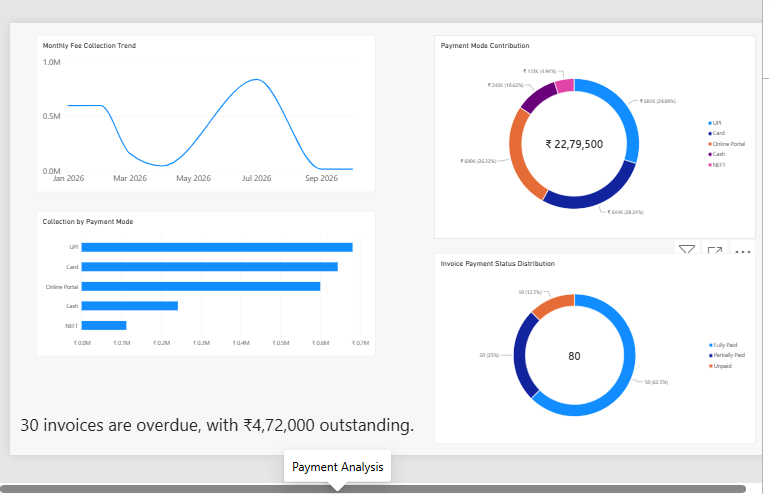

The dashboard page shown, as its layout file describes it:
{"tool":"powerbi","page":{"name":"Payment Analysis","canvas":[1920,1080],"ordinal":1},"visuals":[{"type":"lineChart","title":"Monthly Fee Collection Trend","fields":{"Category":["Payments.PaymentDate.Variation.Date Hierarchy.Year","Payments.PaymentDate.Variation.Date Hierarchy.Month"],"Y":["Sum(Payments.AmountPaid)"]},"box":[65.5,30.2,849.1,393.1],"z":0},{"type":"clusteredBarChart","title":"Collection by Payment Mode","fields":{"Category":["Payments.PaymentMode"],"Y":["Departments.Collected Amount Numeric"]},"box":[65.5,471.2,849.1,362.8],"z":1},{"type":"donutChart","title":"Payment Mode Contribution","fields":{"Category":["Payments.PaymentMode"],"Y":["Departments.Collected Amount Numeric"]},"box":[1060.8,30.2,803.8,509],"z":2},{"type":"donutChart","title":"Invoice Payment Status Distribution","fields":{"Category":["Invoices.Invoice Payment Status"],"Y":["Departments.Total Invoice Count"]},"box":[1060.8,574.5,803.8,476.2],"z":3},{"type":"textbox","box":[20.2,975.1,995.3,75.6],"z":4}]}

Visuals, with their boxes on the page's 1920x1080 design canvas (x1, y1, x2, y2). These are canvas units, not pixel positions in the 769x494 screenshot, which may show the page scaled, cropped or inside an application window:
"Monthly Fee Collection Trend" lineChart: rect(66, 30, 915, 423)
"Collection by Payment Mode" clusteredBarChart: rect(66, 471, 915, 834)
"Payment Mode Contribution" donutChart: rect(1061, 30, 1865, 539)
"Invoice Payment Status Distribution" donutChart: rect(1061, 574, 1865, 1051)
textbox: rect(20, 975, 1016, 1051)
